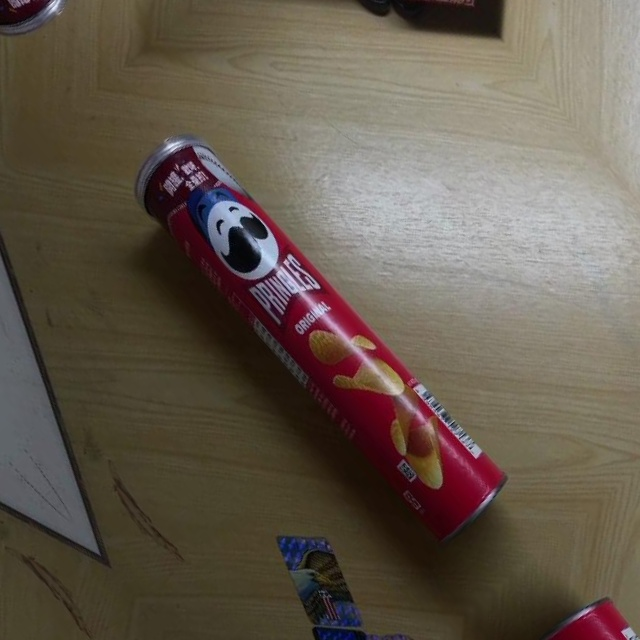Pringles: (117, 109, 524, 564)
